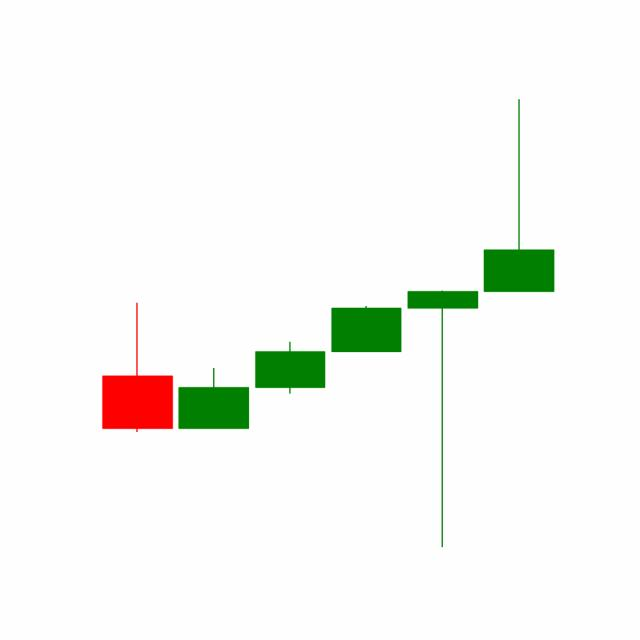Hanging Man: (403, 286, 481, 550)
